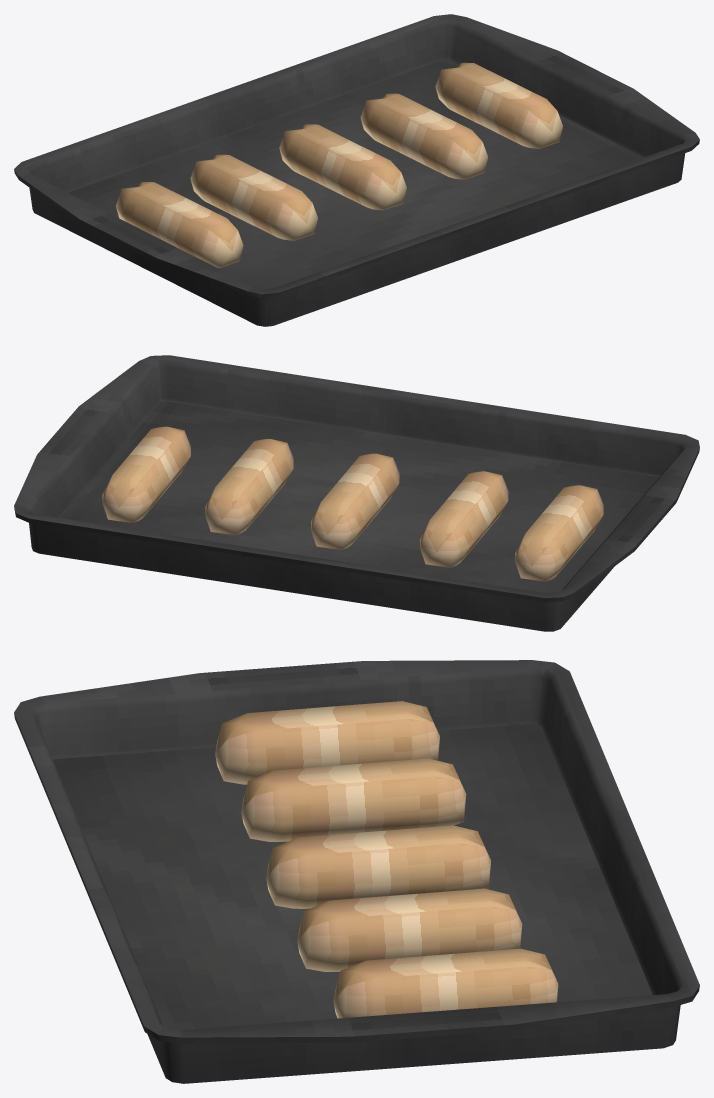
Rendered from BakingTrayEclair.fbx.
The picture shows the model from 3 angles, top to bottom: view 1: azimuth 30°, elevation 25°; view 2: azimuth 150°, elevation 25°; view 3: azimuth 270°, elevation 25°; orthographic projection. The views are drawn at different scales.
Visible parts, largest first — view 1: HotDog; view 2: HotDog; view 3: HotDog.
Part boxes in pixels (x1,y1,x2,y2): HotDog: (14,14,699,326); HotDog: (14,355,699,631); HotDog: (14,660,699,1083).
Bounding box in the file's own units: 105 × 7.91 × 80.46.
